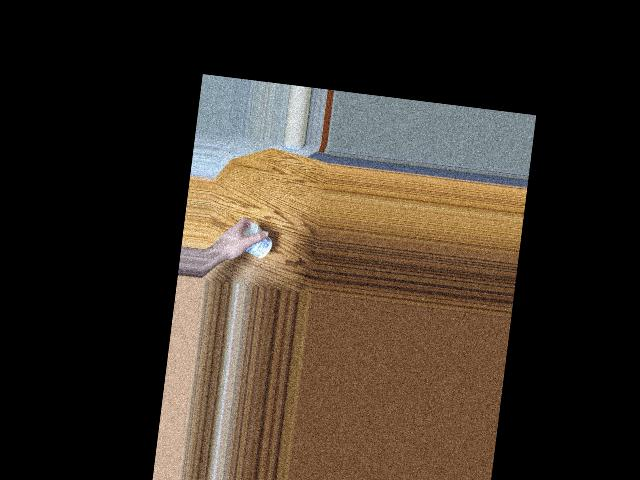cotage: (237, 220, 275, 262)
